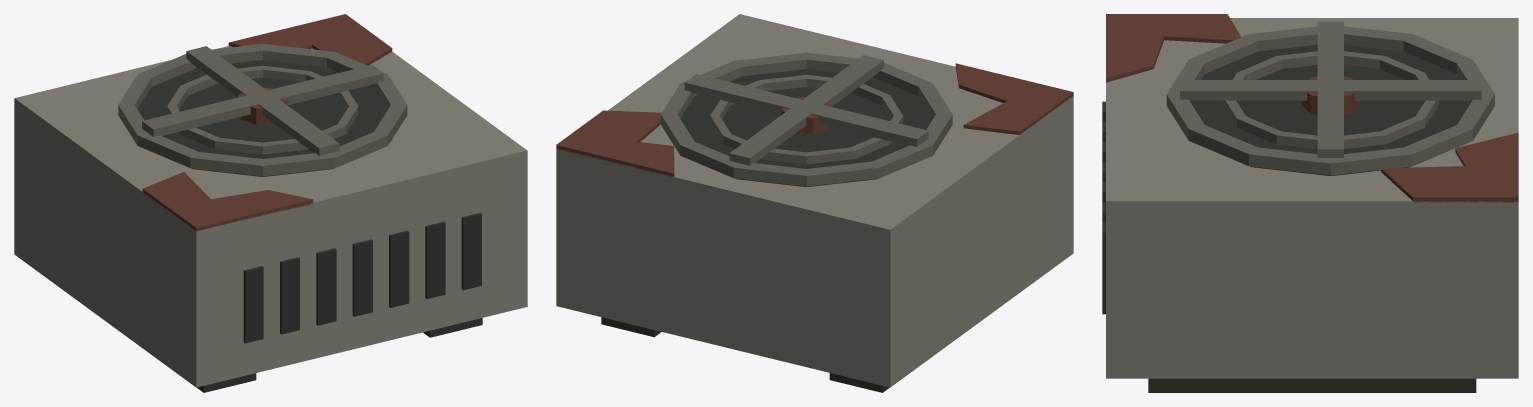
The model's file is ancient_ac.obj.
The picture shows the model from 3 angles, left to right: view 1: azimuth 30°, elevation 25°; view 2: azimuth 150°, elevation 25°; view 3: azimuth 270°, elevation 25°; orthographic projection. The views are drawn at different scales.
Parts seen in each view (by area): view 1: ancient_ac; view 2: ancient_ac; view 3: ancient_ac.
Part boxes in pixels (x1,y1,x2,y2): ancient_ac: (14, 14, 527, 392); ancient_ac: (556, 14, 1073, 392); ancient_ac: (1102, 14, 1518, 392).
Bounding box in the file's own units: 0.82 × 0.48 × 0.787.
